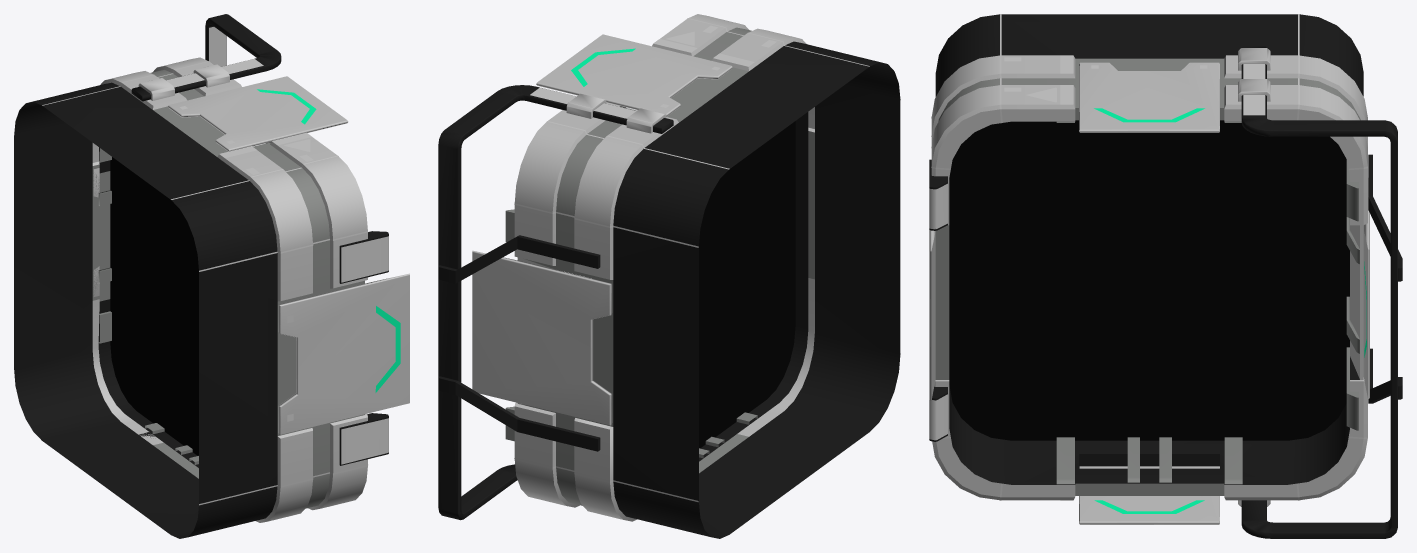
The model's file is FactoryBelt_Out.obj.
The picture shows the model from 3 angles, left to right: view 1: azimuth 30°, elevation 25°; view 2: azimuth 150°, elevation 25°; view 3: azimuth 270°, elevation 25°; orthographic projection. The views are drawn at different scales.
Parts seen in each view (by area): view 1: FactoryBelt_Out; view 2: FactoryBelt_Out; view 3: FactoryBelt_Out.
Part boxes in pixels (x1,y1,x2,y2): FactoryBelt_Out: [14, 14, 409, 538]; FactoryBelt_Out: [438, 14, 900, 538]; FactoryBelt_Out: [929, 14, 1402, 538].
Size of the model in its own units: 143 by 218 by 226.
